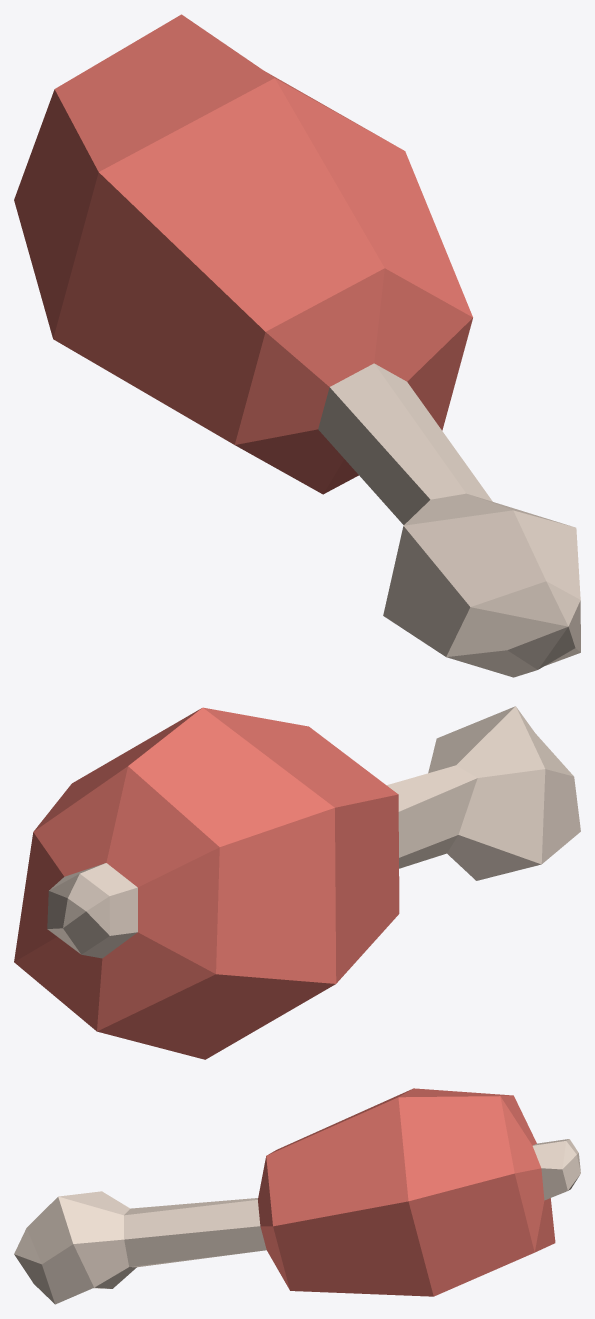
Rendered from f_meat bone.fbx.
3 views of the same model, one above another, from view 1: azimuth 30°, elevation 25°; view 2: azimuth 150°, elevation 25°; view 3: azimuth 270°, elevation 25° (orthographic). The views are drawn at different scales.
Visible parts, largest first — view 1: bone+meat; view 2: bone+meat; view 3: bone+meat.
Part boxes in pixels (<box>): bone+meat: <box>14,14,580,677</box>; bone+meat: <box>14,706,580,1059</box>; bone+meat: <box>14,1088,580,1304</box>.
Bounding box in the file's own units: 26.53 × 28.32 × 69.69.
